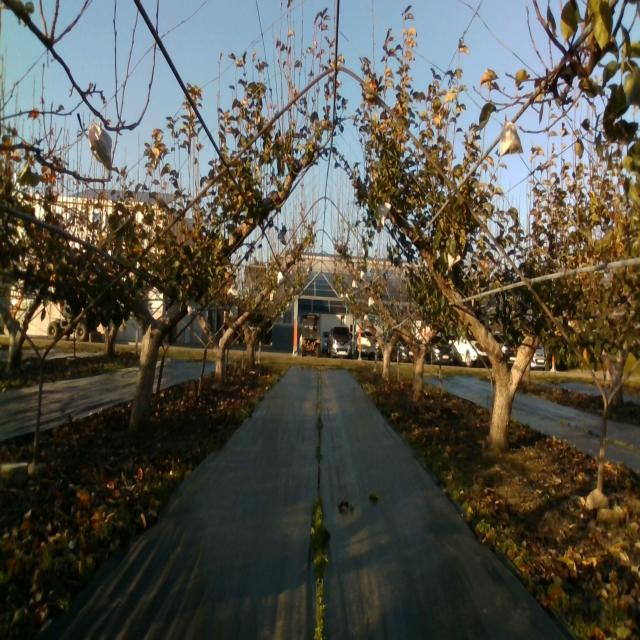pearbags: (88, 122, 112, 172), (498, 113, 524, 156), (377, 202, 392, 228), (188, 298, 198, 319)
